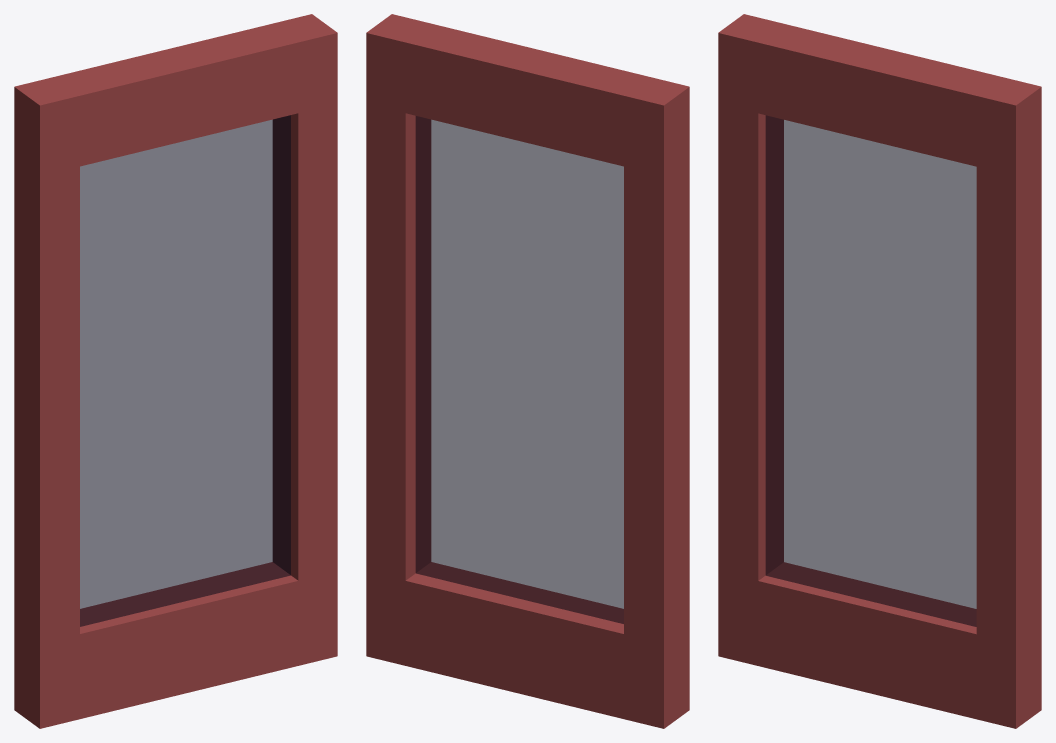
Rendered from PeachWindowLarge.glb.
3 renders of one model, left to right at view 1: azimuth 30°, elevation 25°; view 2: azimuth 150°, elevation 25°; view 3: azimuth 330°, elevation 25°, orthographic.
Parts seen in each view (by area): view 1: wall_largeWindow_peach; view 2: wall_largeWindow_peach; view 3: wall_largeWindow_peach.
Boxes of the visible parts, x1,y1,x2,y2 form: wall_largeWindow_peach: (14, 14, 337, 728); wall_largeWindow_peach: (366, 14, 689, 728); wall_largeWindow_peach: (718, 14, 1041, 728).
Size of what is drawn, in the model's own units: 2 by 4 by 0.3.
2 materials, 2 textured.
